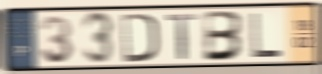3: (80, 9, 116, 68), (37, 13, 75, 66)
B: (202, 9, 245, 63)
D: (120, 12, 160, 64)
L: (249, 11, 284, 59)
T: (165, 12, 198, 61)
